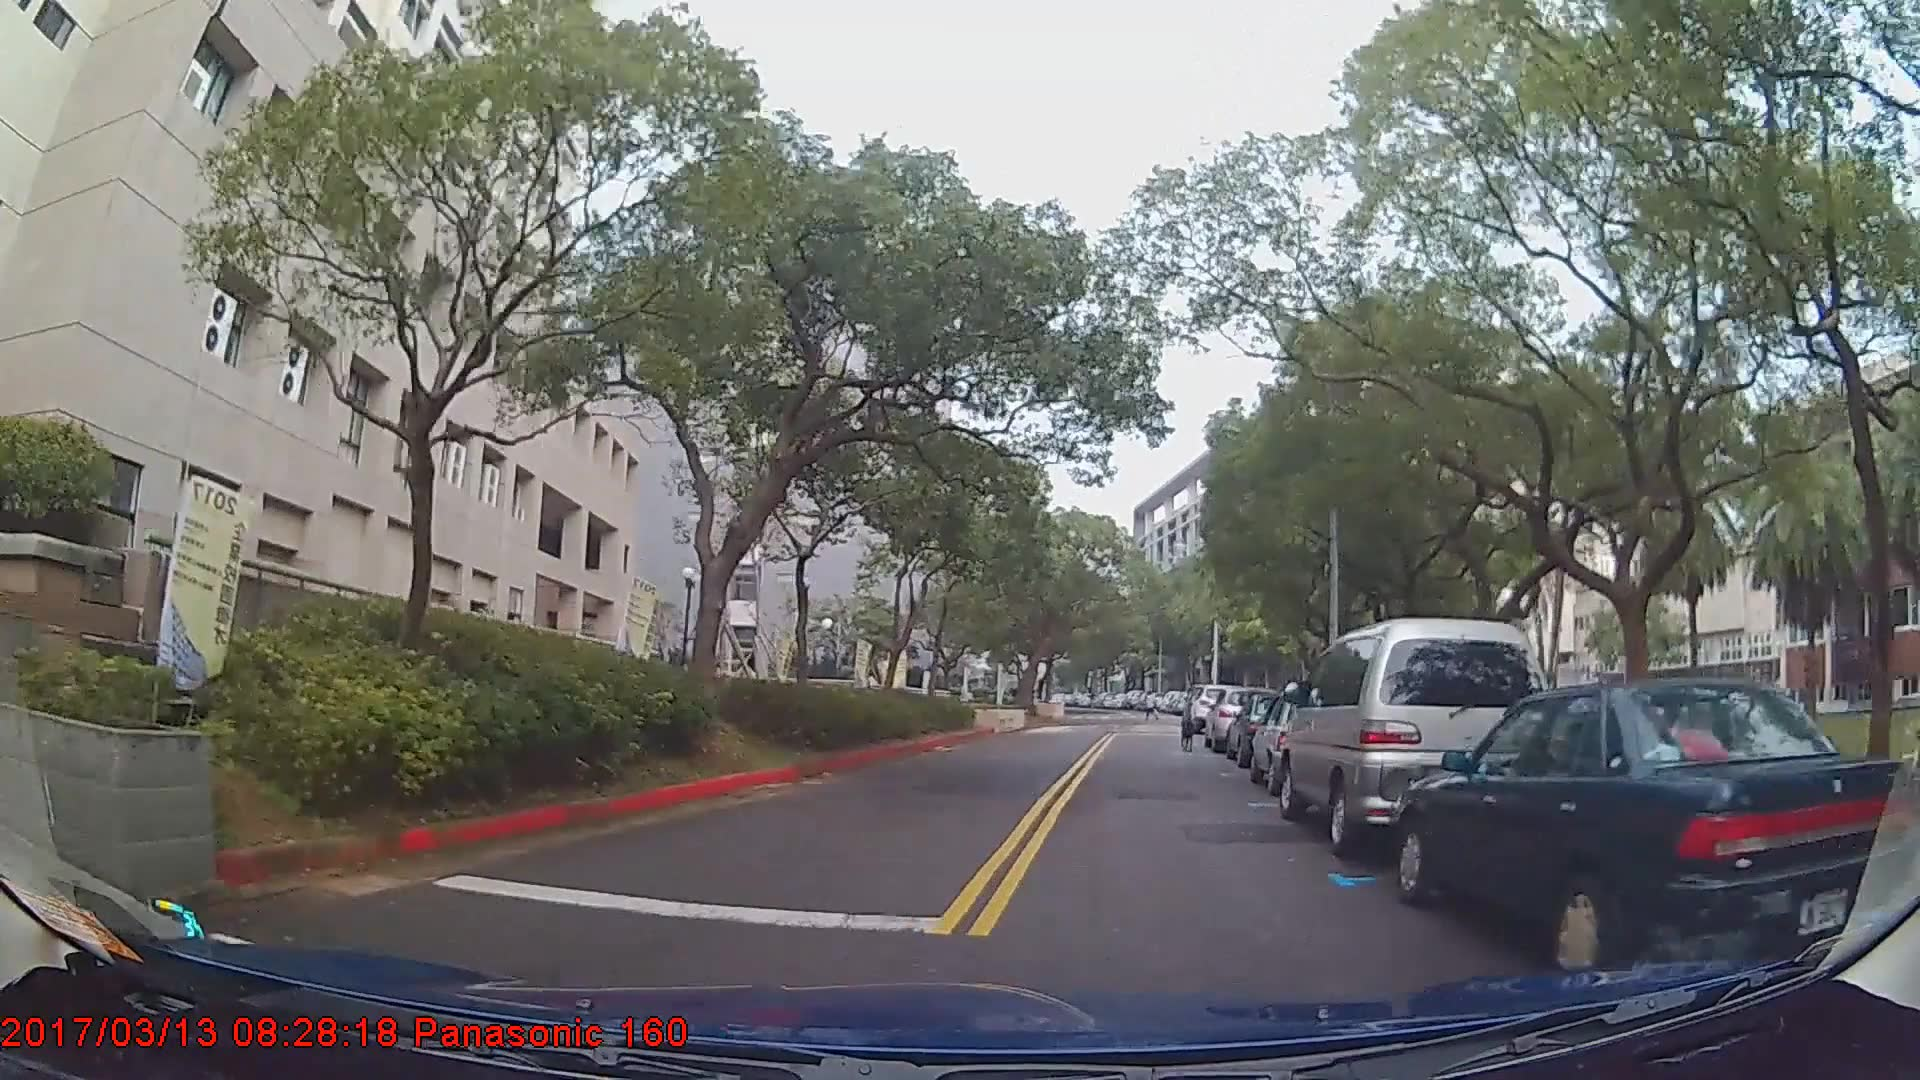vehicle: (1393, 669, 1916, 980), (1278, 615, 1549, 861)
